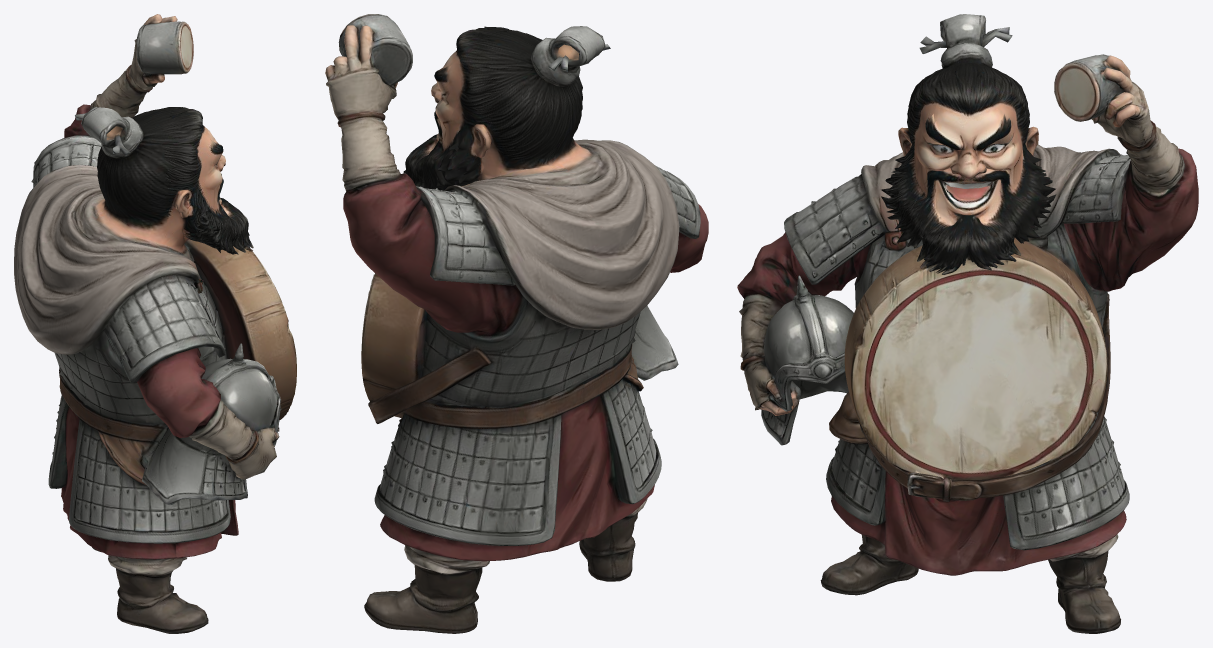
Rendered from p_b1p_changyuchun.glb.
3 renders of one model, left to right at view 1: azimuth 30°, elevation 25°; view 2: azimuth 150°, elevation 25°; view 3: azimuth 270°, elevation 25°, orthographic. The views are drawn at different scales.
Parts seen in each view (by area): view 1: tripo_node_92a8a1b3-2f0f-4c51-ab12-8a9cd2f874f6; view 2: tripo_node_92a8a1b3-2f0f-4c51-ab12-8a9cd2f874f6; view 3: tripo_node_92a8a1b3-2f0f-4c51-ab12-8a9cd2f874f6.
Part boxes in pixels (x1,y1,x2,y2): tripo_node_92a8a1b3-2f0f-4c51-ab12-8a9cd2f874f6: [14, 14, 296, 633]; tripo_node_92a8a1b3-2f0f-4c51-ab12-8a9cd2f874f6: [325, 14, 708, 633]; tripo_node_92a8a1b3-2f0f-4c51-ab12-8a9cd2f874f6: [737, 14, 1198, 633].
Size of the model in its own units: 0.4331 by 0.9796 by 0.7037.
1 material, 1 textured.
